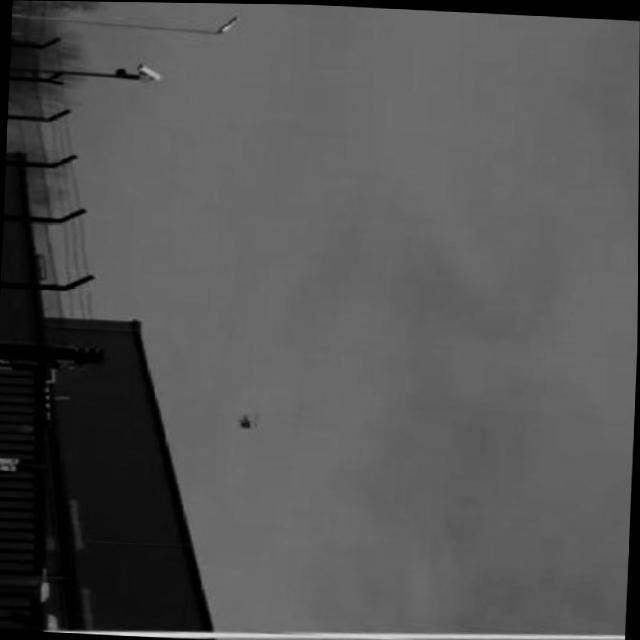helikopter: (228, 408, 264, 436)
